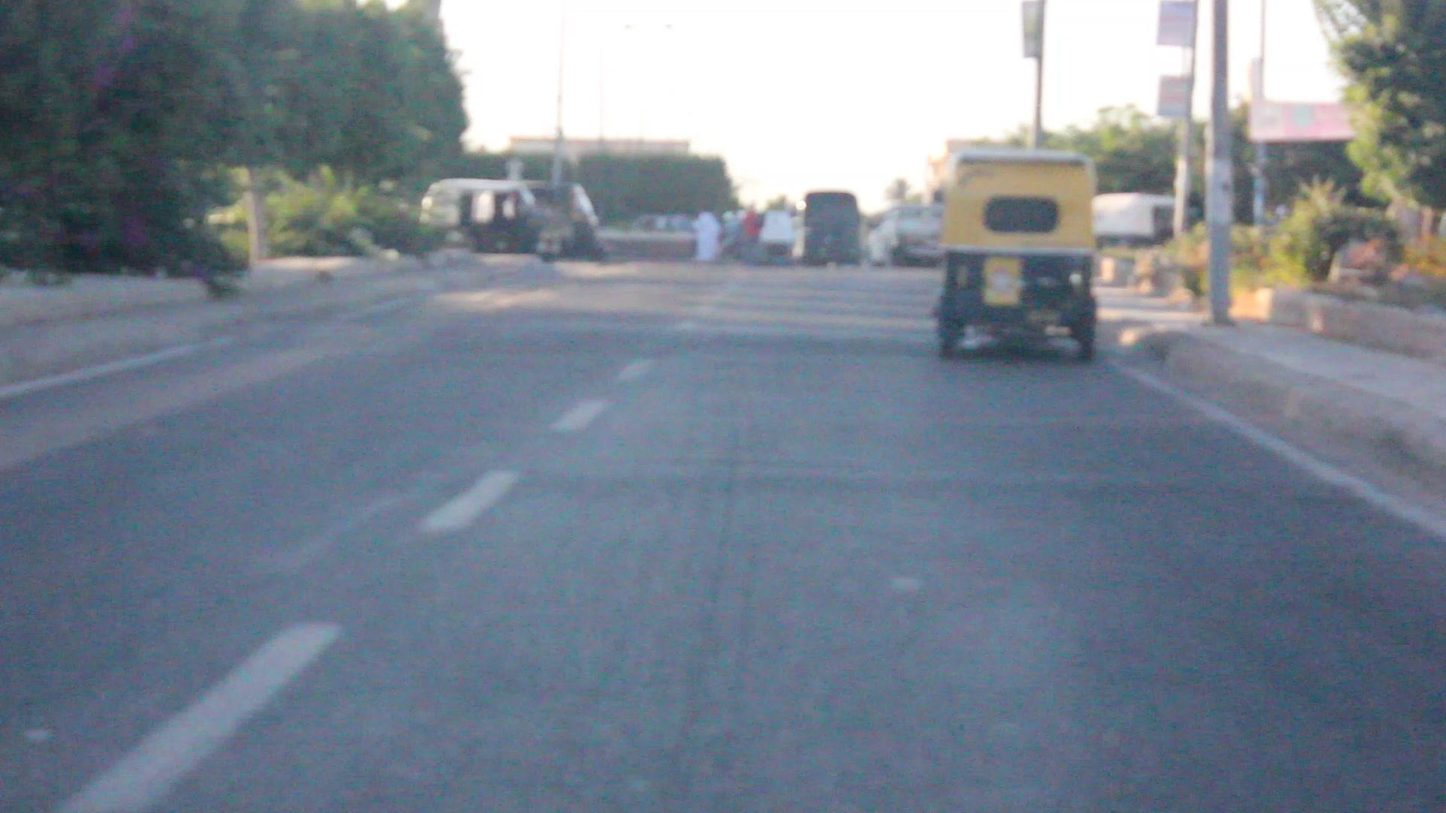Bump: (469, 320, 926, 352)
